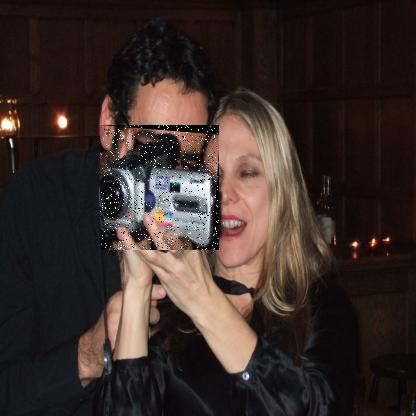Camera: (101, 126, 221, 252)
